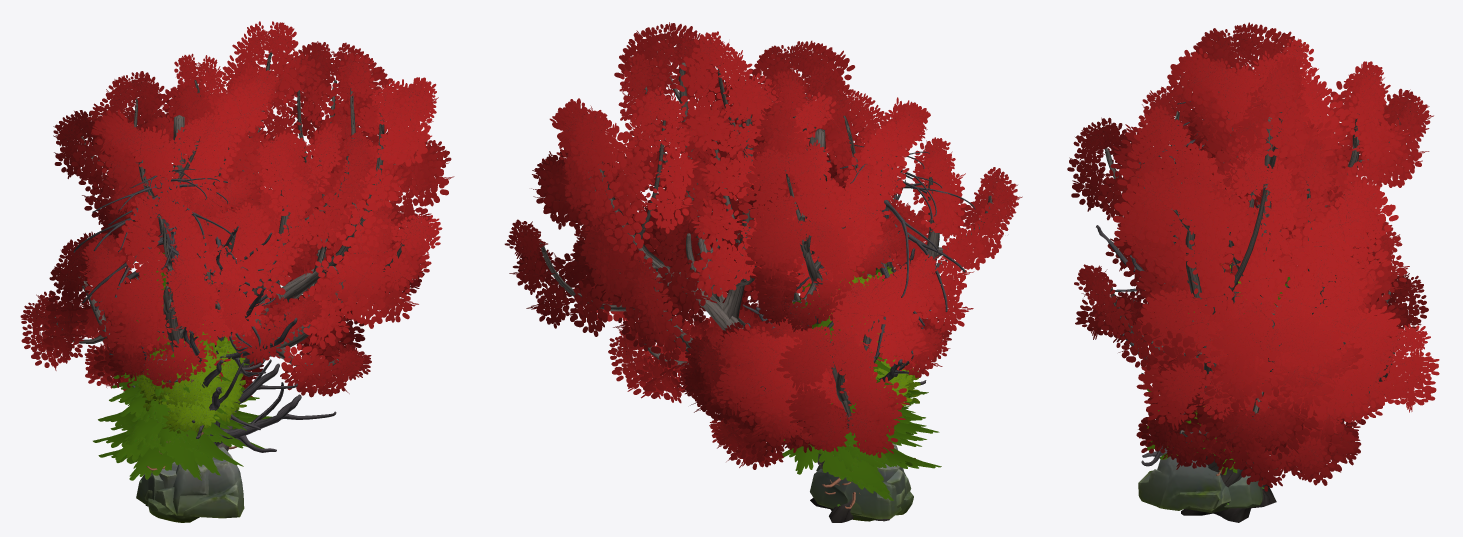
The model's file is nature.glb.
3 views of the same model, side by side, from view 1: azimuth 30°, elevation 25°; view 2: azimuth 150°, elevation 25°; view 3: azimuth 270°, elevation 25° (orthographic). The views are drawn at different scales.
Visible parts, largest first — view 1: TwistedTree_3, TwistedTree_1, DeadTree_2, Rock_Medium_3, Pine_2, DeadTree_3, Pine_5, Pine_4, CommonTree_3, CommonTree_2, CommonTree_1, Rock_Medium_1 (+2 smaller); view 2: TwistedTree_1, TwistedTree_3, Pine_5, Rock_Medium_2, DeadTree_3, Pine_2, Pine_4; view 3: TwistedTree_1, TwistedTree_3, Rock_Medium_3, Rock_Medium_2, DeadTree_2.
Part boxes in pixels (x1,y1,x2,y2): TwistedTree_3: (20,53,376,396); TwistedTree_1: (105,21,454,506); DeadTree_2: (136,211,336,452); Rock_Medium_3: (148,447,244,522); Pine_2: (98,395,251,480); DeadTree_3: (73,155,260,346); Pine_5: (93,348,271,475); Pine_4: (98,252,248,470); CommonTree_3: (141,278,245,411); CommonTree_2: (136,332,245,436); CommonTree_1: (139,334,247,433); Rock_Medium_1: (144,464,209,515); TwistedTree_1: (504,22,927,522); TwistedTree_3: (676,40,1022,469); Pine_5: (783,291,931,492); Rock_Medium_2: (810,464,901,519); DeadTree_3: (796,145,975,358); Pine_2: (778,377,941,500); Pine_4: (819,267,939,509); TwistedTree_1: (1074,56,1439,522); TwistedTree_3: (1067,22,1433,479); Rock_Medium_3: (1138,448,1225,510); Rock_Medium_2: (1224,475,1262,508); DeadTree_2: (1096,177,1289,466).
Bounding box in the file's own units: 15.83 × 16.86 × 11.71.
12 materials, 12 textured.
